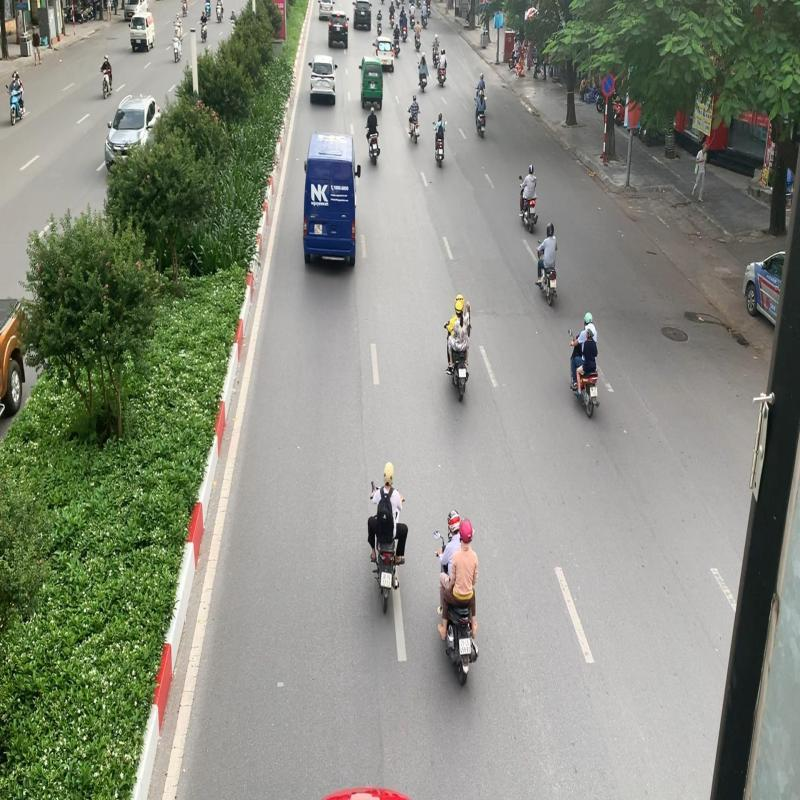helmet: (447, 508, 461, 536), (459, 516, 473, 544), (384, 462, 394, 486), (454, 292, 465, 312), (585, 322, 596, 340), (546, 222, 554, 238), (584, 311, 592, 325), (528, 164, 534, 175)
licenseplate: (458, 637, 472, 655), (380, 571, 392, 589), (590, 386, 598, 397), (458, 368, 466, 378), (550, 278, 557, 289), (530, 206, 536, 214)
motorcyclist: (432, 507, 482, 686), (366, 461, 408, 614), (568, 310, 600, 420), (442, 293, 473, 403), (535, 222, 559, 308), (519, 163, 539, 234)
